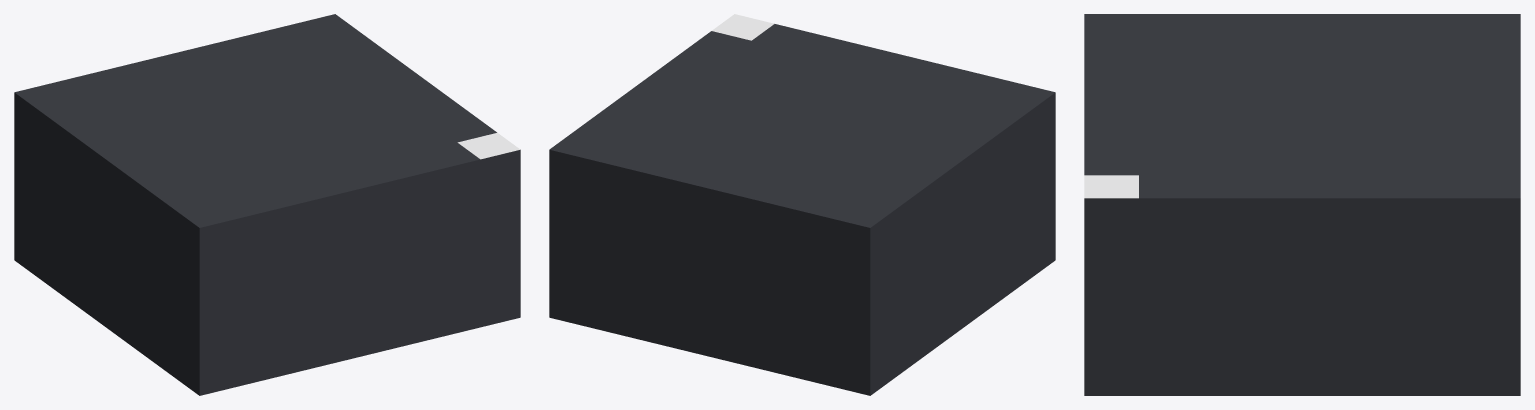
The model's file is NF_Floor_00_Black_1.fbx.
3 renders of one model, left to right at view 1: azimuth 30°, elevation 25°; view 2: azimuth 150°, elevation 25°; view 3: azimuth 270°, elevation 25°, orthographic. The views are drawn at different scales.
Parts seen in each view (by area): view 1: NF_Floor_00_Black_1; view 2: NF_Floor_00_Black_1; view 3: NF_Floor_00_Black_1.
Boxes of the visible parts, x1,y1,x2,y2 form: NF_Floor_00_Black_1: [14, 14, 520, 395]; NF_Floor_00_Black_1: [549, 14, 1055, 395]; NF_Floor_00_Black_1: [1084, 14, 1520, 395].
Bounding box in the file's own units: 2 × 1 × 2.
Materials: 1 (1 with a texture image).
